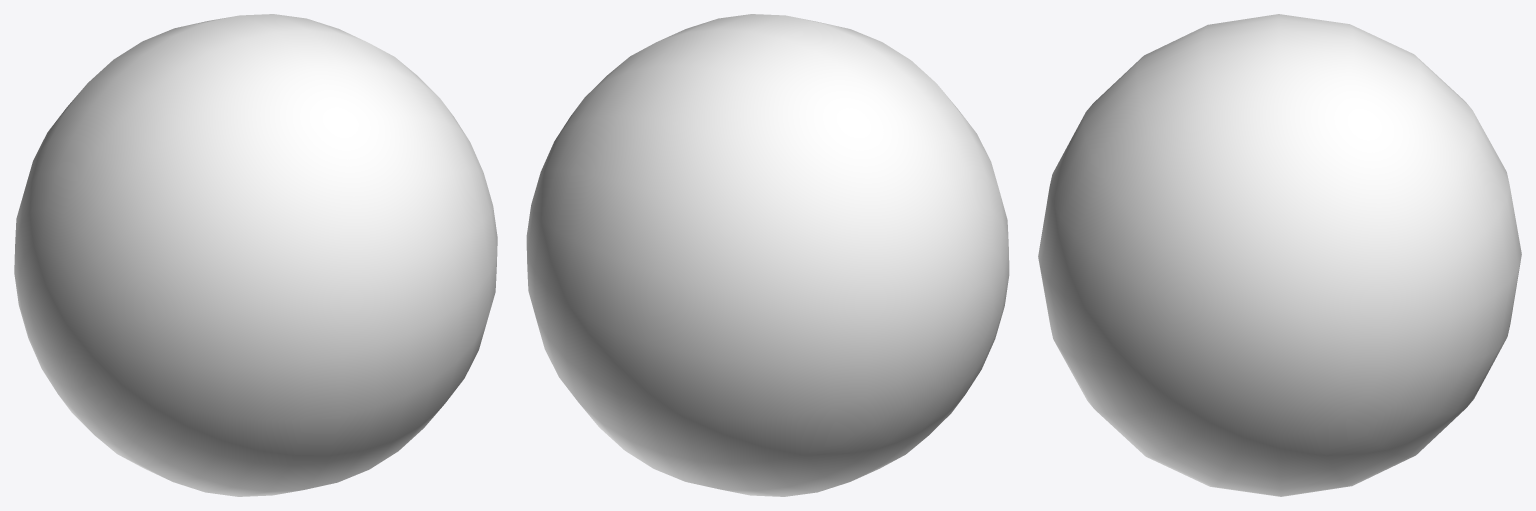
Rendered from Ball0.fbx.
The picture shows the model from 3 angles, left to right: view 1: azimuth 30°, elevation 25°; view 2: azimuth 150°, elevation 25°; view 3: azimuth 270°, elevation 25°; orthographic projection.
Visible parts, largest first — view 1: pSphere1; view 2: pSphere1; view 3: pSphere1.
Part boxes in pixels (left/top/right/bottom): pSphere1: left=14, top=14, right=497, bottom=496; pSphere1: left=526, top=14, right=1009, bottom=496; pSphere1: left=1038, top=14, right=1521, bottom=496.
Size of the model in its own units: 2 by 2 by 2.
Materials: 1 (1 with a texture image).
